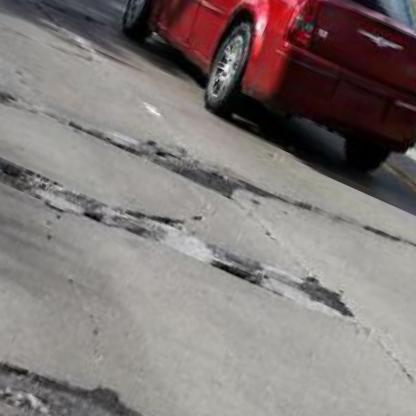pothole: (0, 303, 164, 416), (0, 108, 119, 231), (101, 112, 254, 204), (211, 249, 272, 292)
